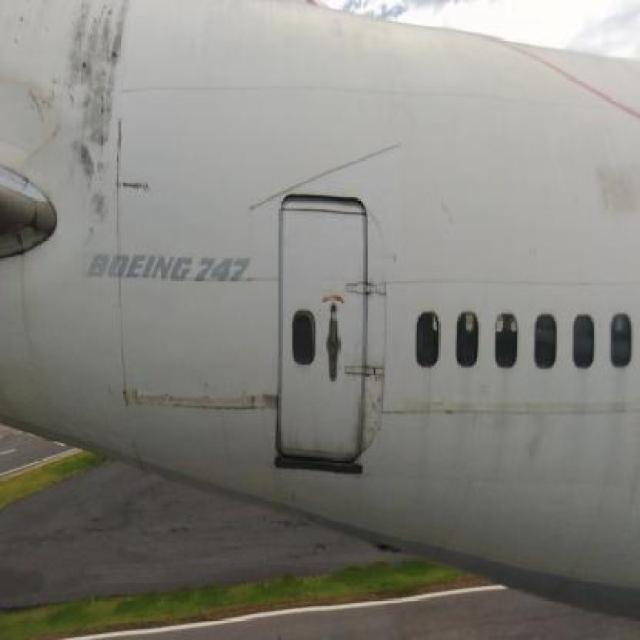Rust: (60, 1, 128, 256), (118, 381, 250, 419), (25, 62, 61, 182), (18, 244, 37, 381)
Scartch: (494, 397, 555, 468), (356, 377, 389, 463), (426, 178, 466, 230), (122, 171, 156, 203), (259, 376, 283, 421)
